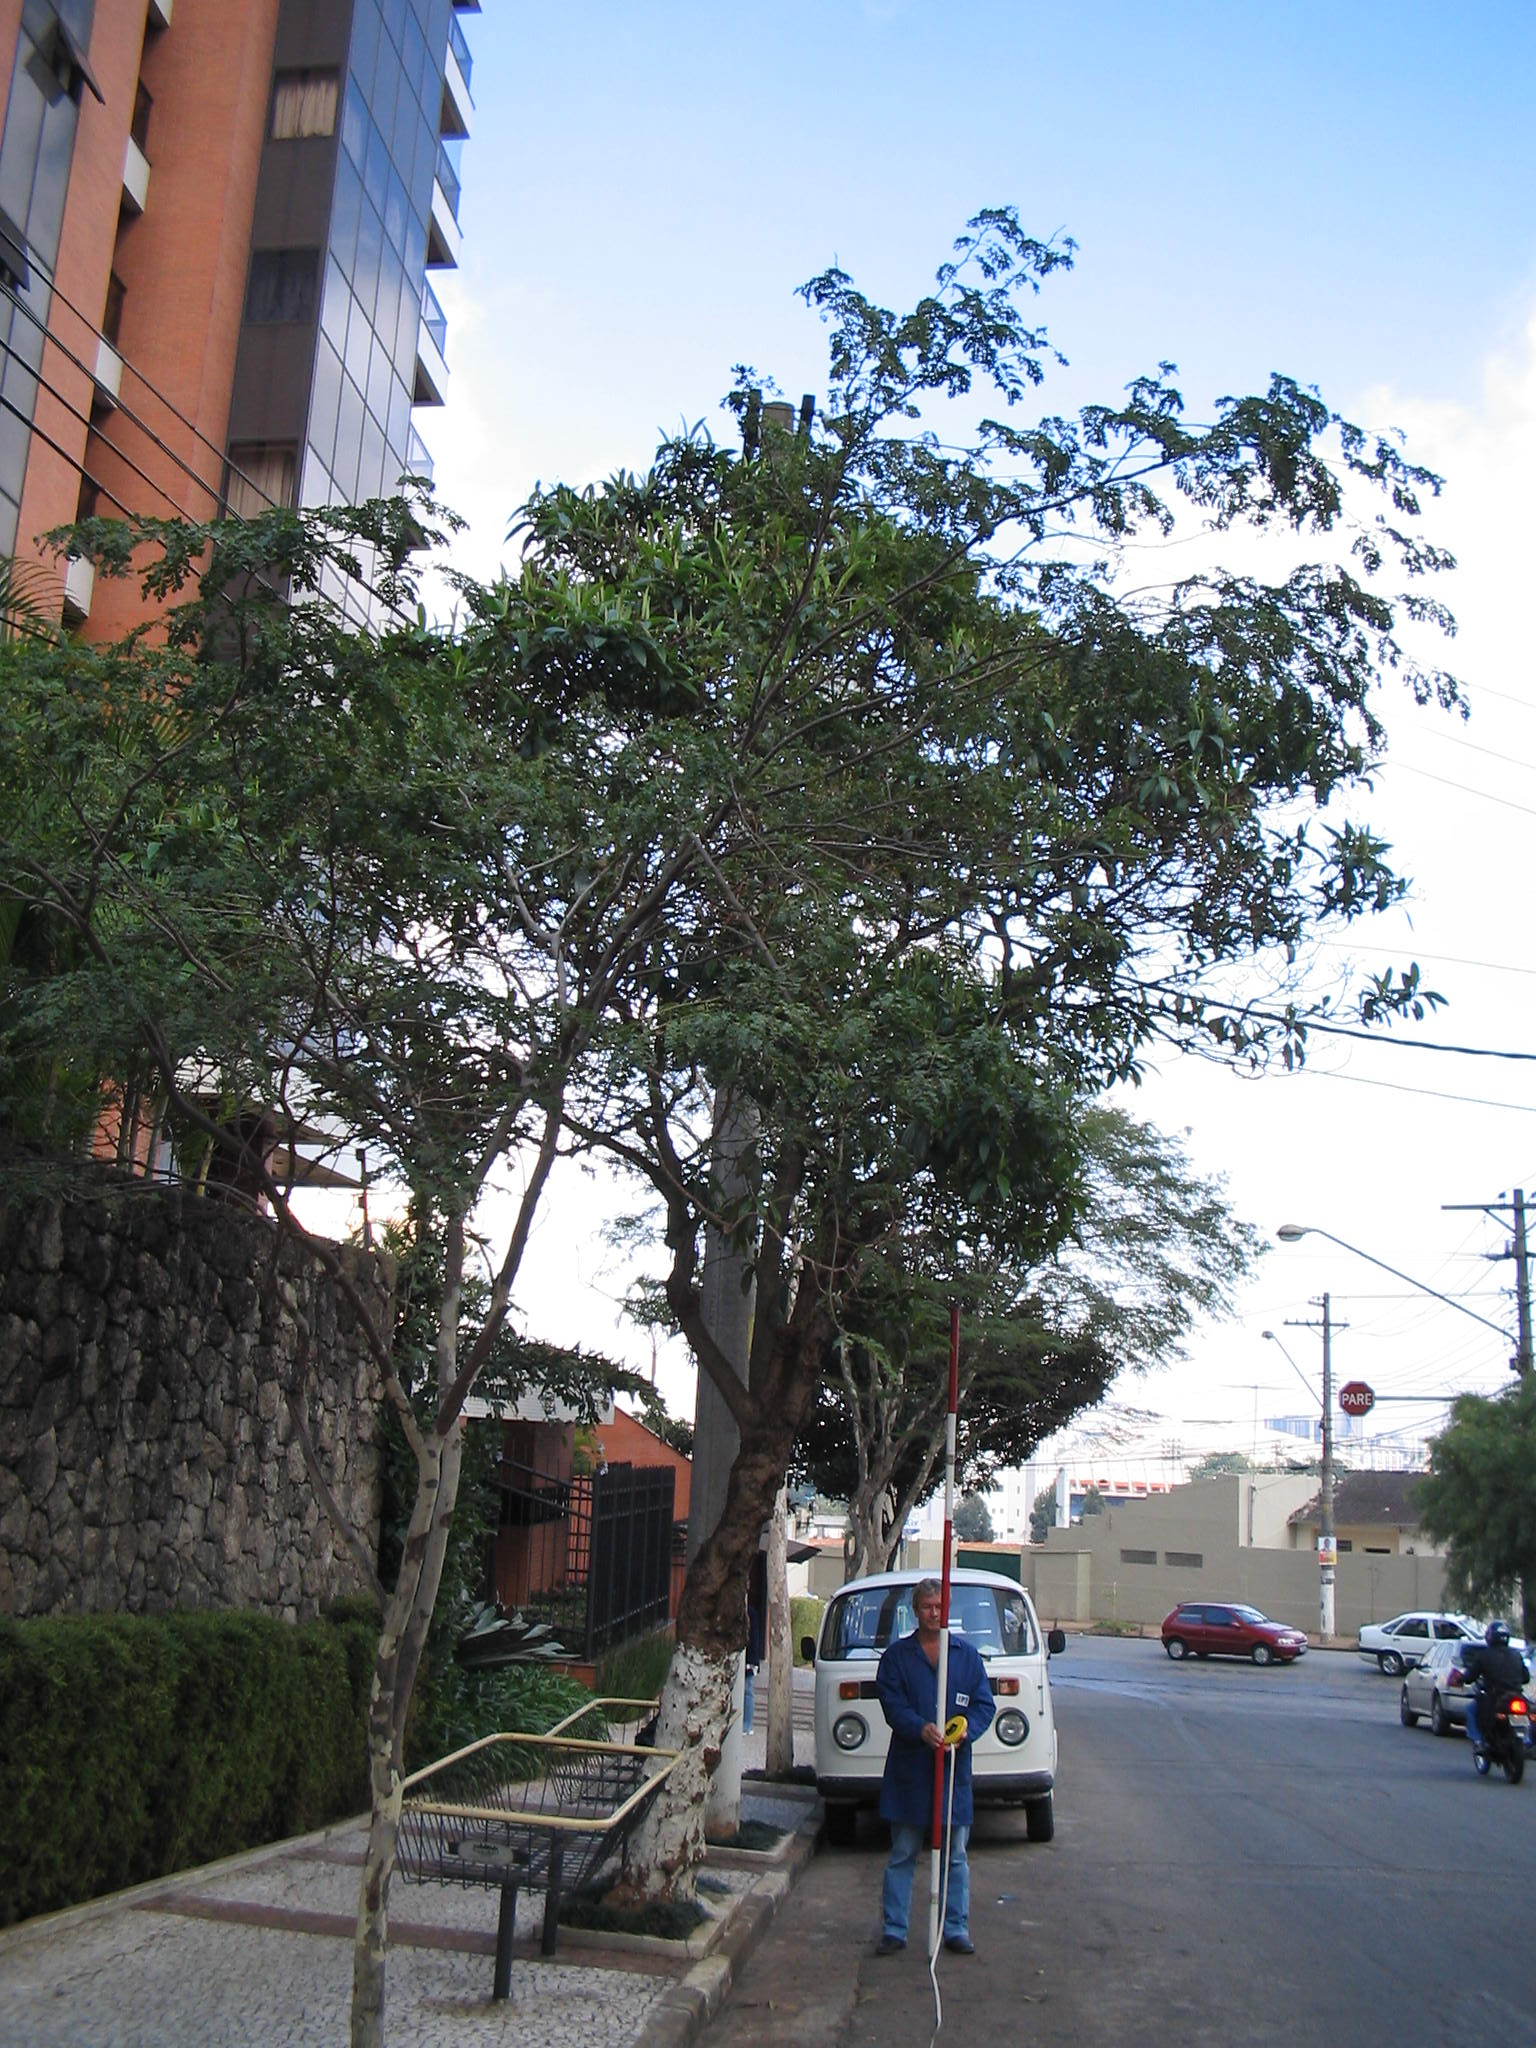crown: (503, 468, 1428, 1300)
stem: (578, 1632, 783, 1904)
stick: (905, 1303, 991, 1959)
tree: (495, 461, 1431, 1911)
